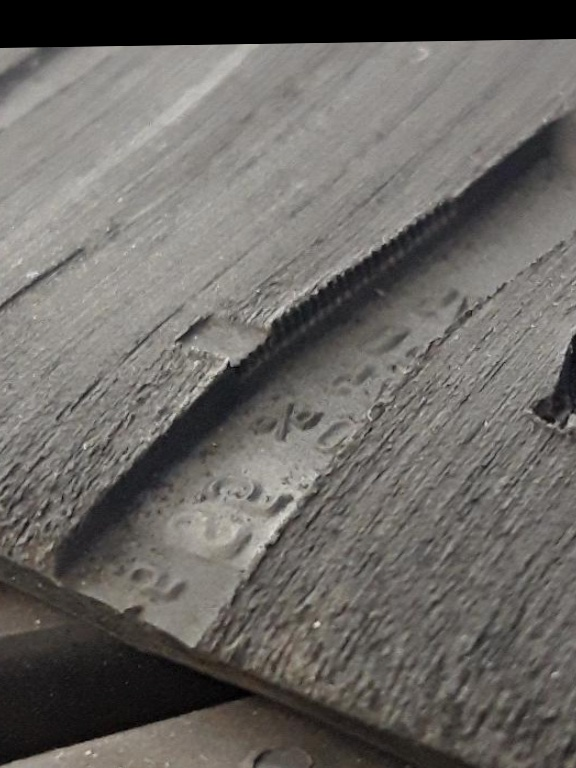temoin:0: (162, 285, 302, 389)
